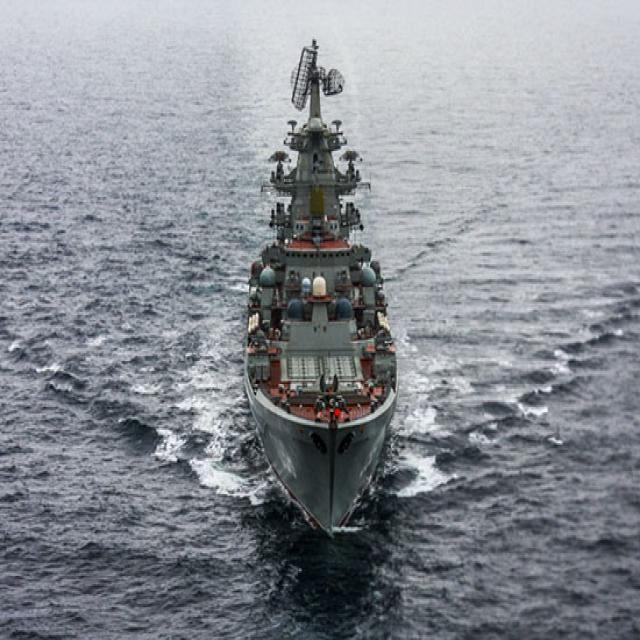navalvessels: (238, 34, 406, 534)
